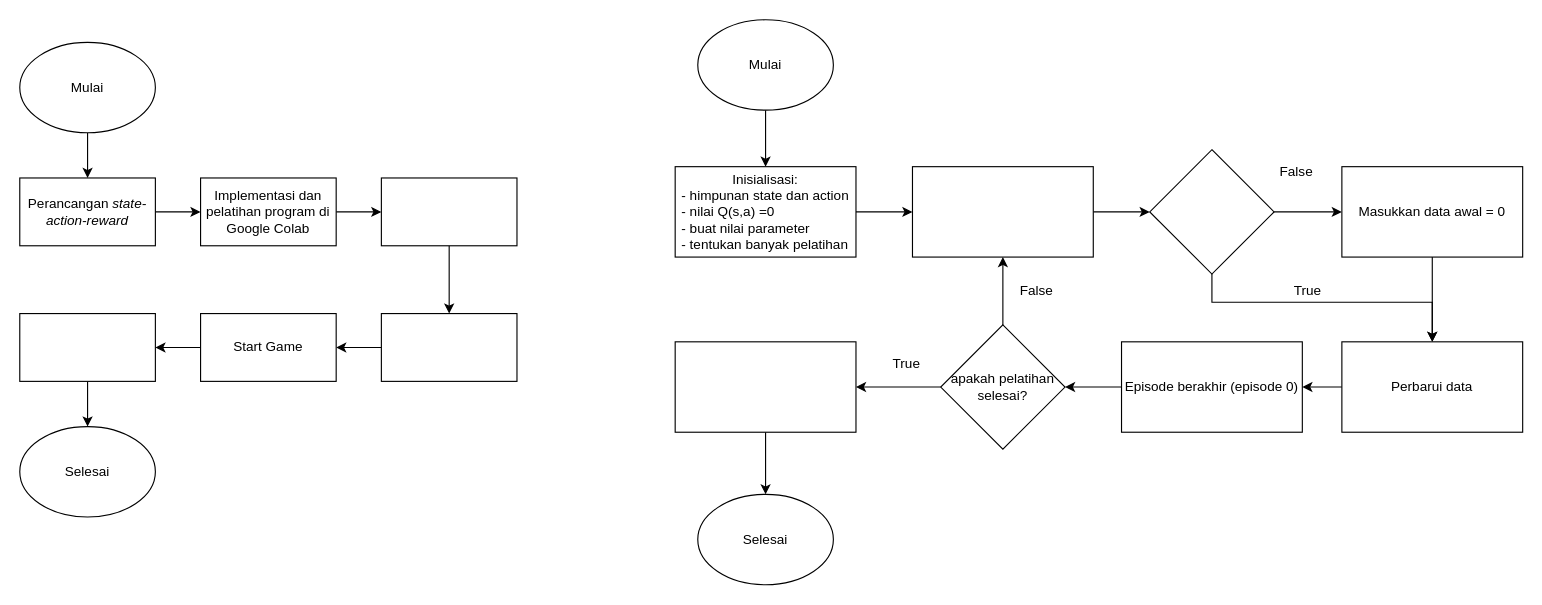
The diagram is 1542 pixels wide and 605 high, and some of its shapes have lost their labels. The box of each missing label's shape, as (x1, y1, x2, y2) in pixels:
apakah ada data pelatihan?: (1149, 149, 1274, 274)
Ekspor file .json: (380, 177, 517, 246)
Eksport file .json: (674, 341, 856, 432)
Evaluasi dan analisa: akurasi aksi: (19, 312, 155, 381)
Jalankan FastAPI: - load file .json - connect ke Godot: (380, 312, 517, 381)
Mulai training loop: (911, 166, 1093, 257)
